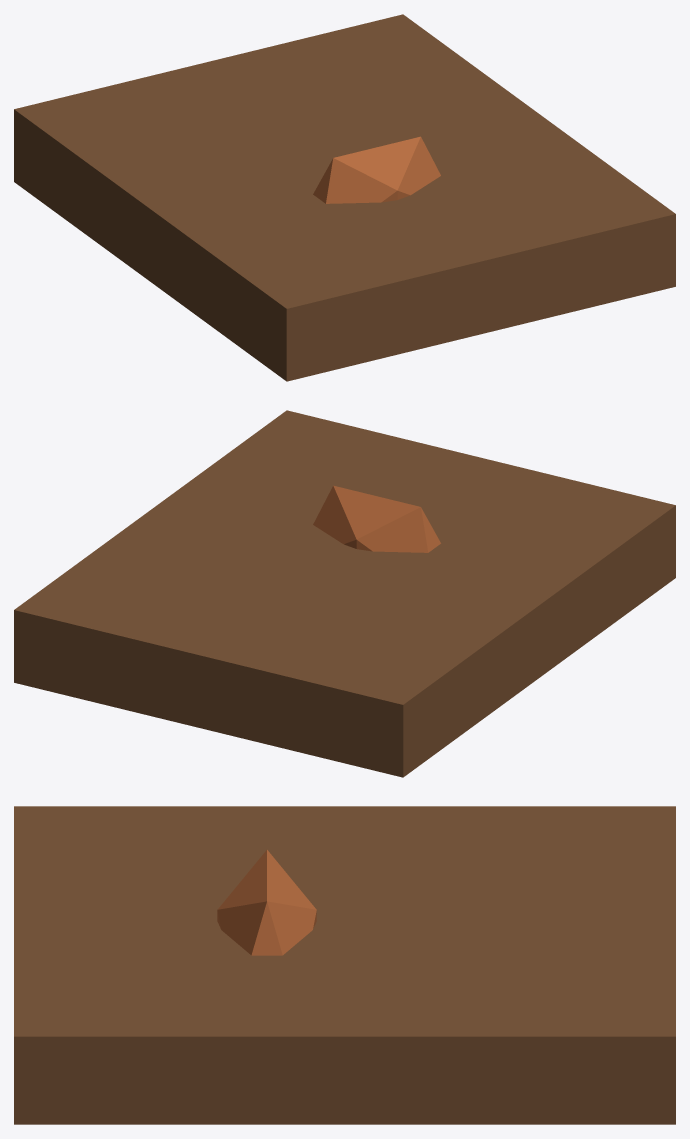
The model's file is off_01_oak_buckler.glb.
3 renders of one model, top to bottom at view 1: azimuth 30°, elevation 25°; view 2: azimuth 150°, elevation 25°; view 3: azimuth 270°, elevation 25°, orthographic. The views are drawn at different scales.
Parts seen in each view (by area): view 1: shield, shield_boss; view 2: shield, shield_boss; view 3: shield, shield_boss.
Boxes of the visible parts, x1,y1,x2,y2 form: shield: [14, 14, 675, 381]; shield_boss: [313, 136, 440, 203]; shield: [14, 410, 675, 777]; shield_boss: [313, 485, 440, 552]; shield: [14, 806, 675, 1124]; shield_boss: [217, 850, 316, 955].
Bounding box in the file's own units: 0.56 × 0.2042 × 0.68.
